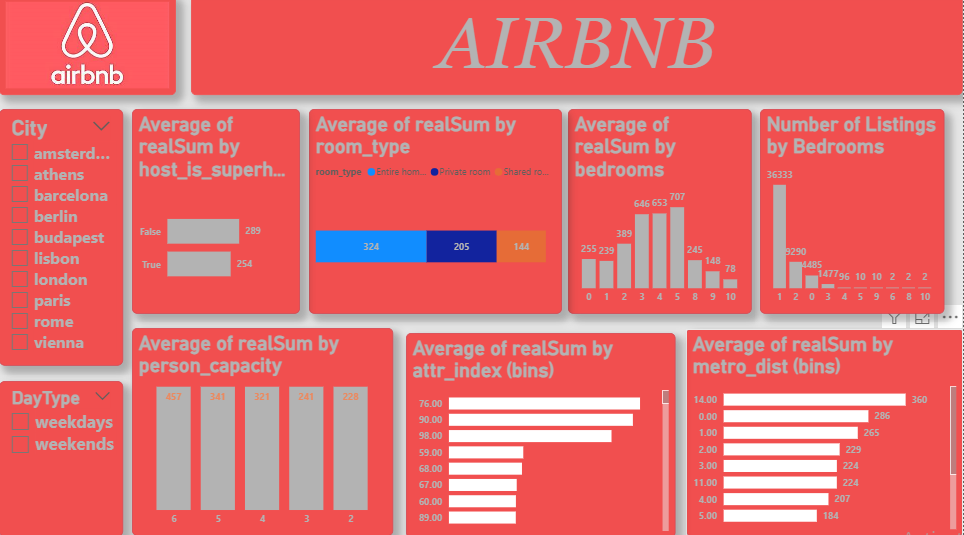

The page's visual inventory and layout, read from the dashboard file:
{"tool":"powerbi","page":{"name":"Page 2","canvas":[1280,720],"ordinal":1},"visuals":[{"type":"textbox","box":[254.7,0,1025.3,133],"z":0},{"type":"image","box":[0,0,235.2,132.7],"z":1000},{"type":"slicer","fields":{"Values":["GOLD DIMList.City"]},"box":[0,151.2,164.5,340.6],"z":2000},{"type":"slicer","fields":{"Values":["GOLD DIMList.DayType"]},"box":[0,512.8,164.5,206.6],"z":3000},{"type":"columnChart","fields":{"Y":["Avg(GOLD FACT.realSum)"],"Category":["GOLD DIMList.bedrooms"]},"box":[755.9,151.2,243.6,272.1],"z":4000},{"type":"barChart","fields":{"Y":["Avg(GOLD FACT.realSum)"],"Series":["GOLD DIMList.room_type"]},"box":[411.5,151.2,336,272.1],"z":5000},{"type":"clusteredBarChart","fields":{"Category":["GOLD DIMList.metro_dist (bins)"],"Y":["Avg(GOLD FACT.realSum)"]},"box":[912.1,443.5,367.9,275.5],"z":6000},{"type":"barChart","fields":{"Category":["GOLD DIMList.attr_index (bins)"],"Y":["Avg(GOLD FACT.realSum)"]},"box":[540.9,448.5,357.8,272.1],"z":7000},{"type":"barChart","fields":{"Y":["Avg(GOLD FACT.realSum)"],"Category":["GOLD DIMList.host_is_superhost"]},"box":[176.4,151.2,223.4,272.1],"z":8000},{"type":"hundredPercentStackedColumnChart","fields":{"Category":["GOLD DIMList.person_capacity"],"Y":["Avg(GOLD FACT.realSum)"]},"box":[176.8,442.9,347.2,275.8],"z":9000},{"type":"clusteredColumnChart","title":"Number of Listings by Bedrooms","fields":{"Category":["GOLD DIMList.bedrooms"],"Y":["CountNonNull(GOLD FACT.id_list)"]},"box":[1011.2,151.2,245.2,272.1],"z":9001}]}

Visuals, with their boxes in screenshot pixels (x1, y1, x2, y2), scaled from the page's 1280x720 canvas onto the 964x535 screenshot:
textbox: [x1=192, y1=0, x2=963, y2=99]
image: [x1=0, y1=0, x2=177, y2=99]
slicer - GOLD DIMList.City: [x1=0, y1=112, x2=124, y2=365]
slicer - GOLD DIMList.DayType: [x1=0, y1=381, x2=124, y2=534]
columnChart - Avg(GOLD FACT.realSum) x GOLD DIMList.bedrooms: [x1=569, y1=112, x2=753, y2=315]
barChart - Avg(GOLD FACT.realSum) x GOLD DIMList.room_type: [x1=310, y1=112, x2=563, y2=315]
clusteredBarChart - GOLD DIMList.metro_dist (bins) x Avg(GOLD FACT.realSum): [x1=687, y1=330, x2=963, y2=534]
barChart - GOLD DIMList.attr_index (bins) x Avg(GOLD FACT.realSum): [x1=407, y1=333, x2=677, y2=534]
barChart - Avg(GOLD FACT.realSum) x GOLD DIMList.host_is_superhost: [x1=133, y1=112, x2=301, y2=315]
hundredPercentStackedColumnChart - GOLD DIMList.person_capacity x Avg(GOLD FACT.realSum): [x1=133, y1=329, x2=395, y2=534]
"Number of Listings by Bedrooms" clusteredColumnChart: [x1=762, y1=112, x2=946, y2=315]
